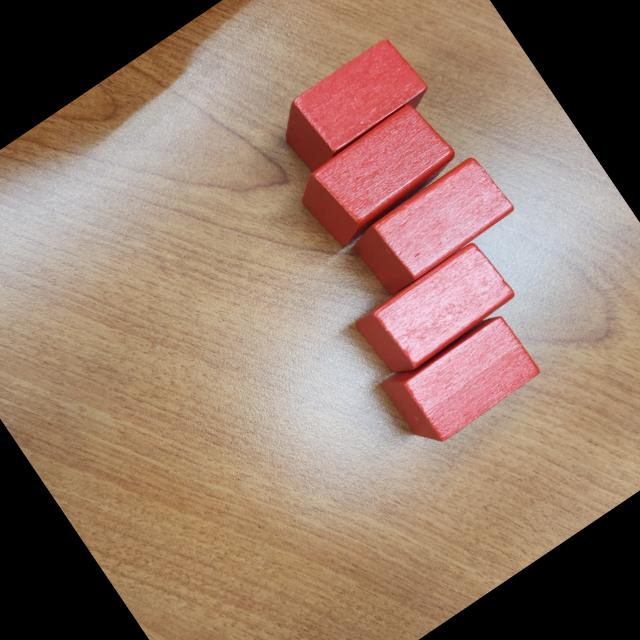red: (266, 31, 438, 182), (299, 104, 454, 250), (353, 156, 516, 294), (354, 244, 518, 371), (380, 318, 543, 442)
